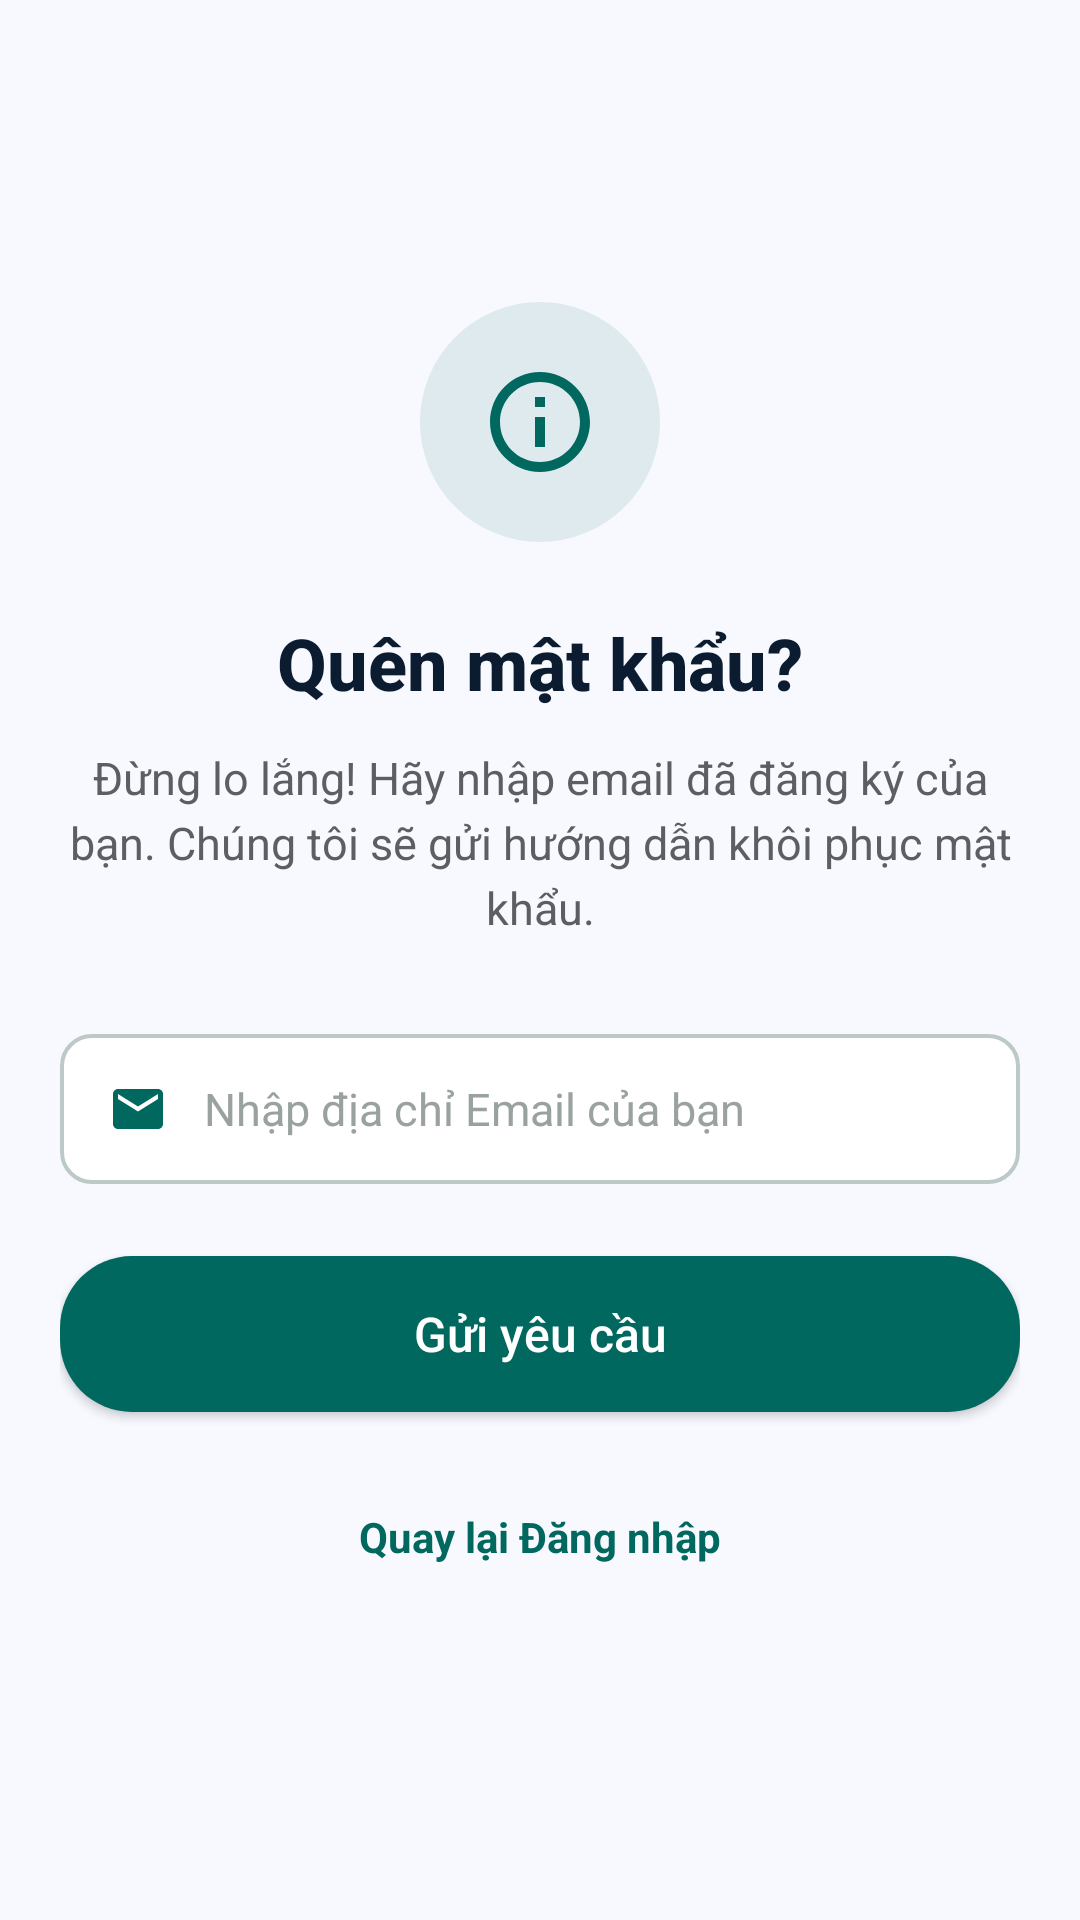

Icon click points for this 1080w x 1920h phone screenshot, format (x,y):
info: (540,422)
